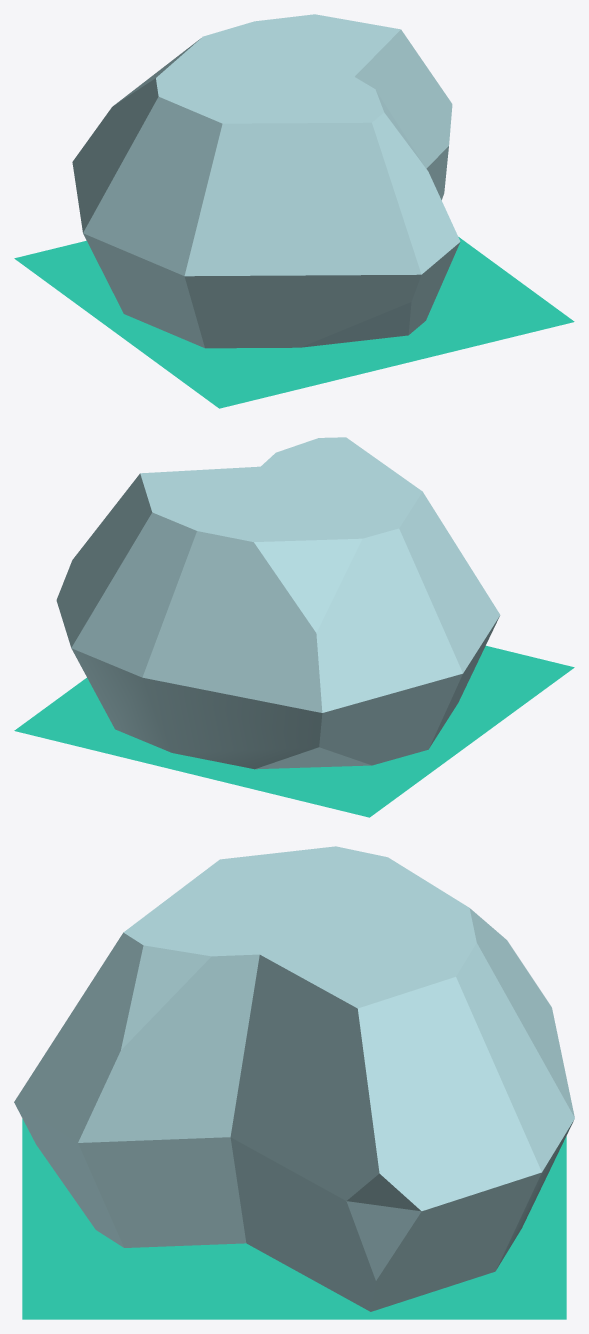
File: largeRock2.glb
3 renders of one model, top to bottom at view 1: azimuth 30°, elevation 25°; view 2: azimuth 150°, elevation 25°; view 3: azimuth 270°, elevation 25°, orthographic. The views are drawn at different scales.
Visible parts, largest first — view 1: mergedBlocks(Clone); view 2: mergedBlocks(Clone); view 3: mergedBlocks(Clone).
Part boxes in pixels (left/top/right/bottom): mergedBlocks(Clone): left=14, top=14, right=574, bottom=408; mergedBlocks(Clone): left=14, top=437, right=574, bottom=817; mergedBlocks(Clone): left=14, top=846, right=574, bottom=1319.
Size of the model in its own units: 1.07 by 0.5683 by 1.03.
